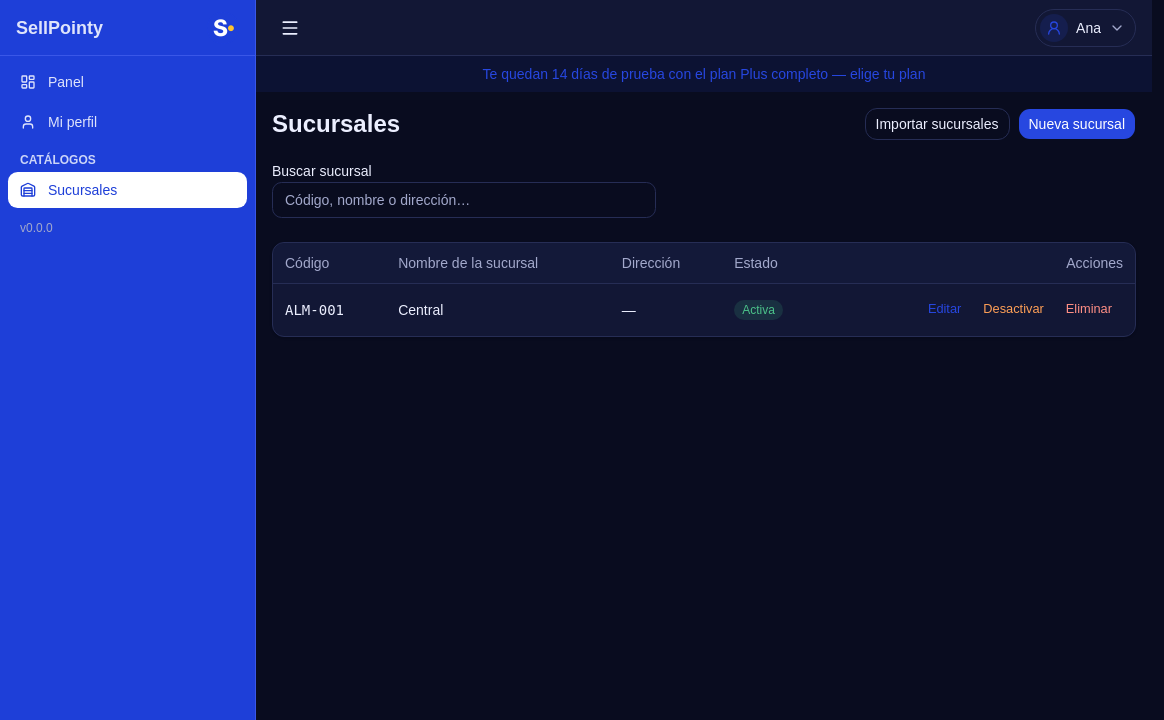
Scenario: Sucursales: la guarda se ve antes del clic (F3-GUARDS-03) › el clic sobre uno bloqueado deja que el 409 del server explique
Expected: the text "Central" is shown, [386,283,610,336]
Click the button "Desactivar".
click(1014, 310)  # box [972,296,1055,324]
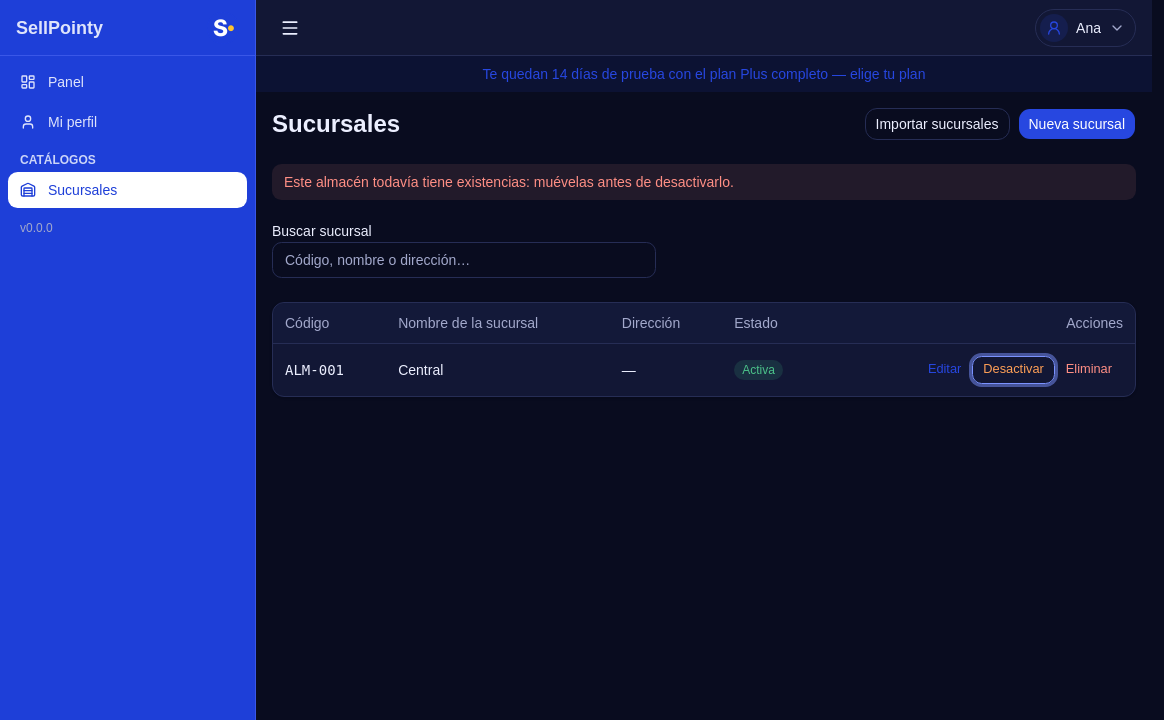
Expected: the message with test id "warehouses-error" shows "existencias", [284,174,734,190]
